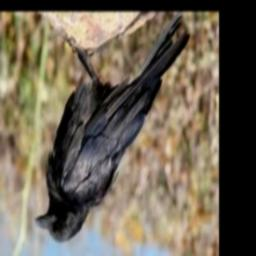Crow: (33, 11, 190, 244)
